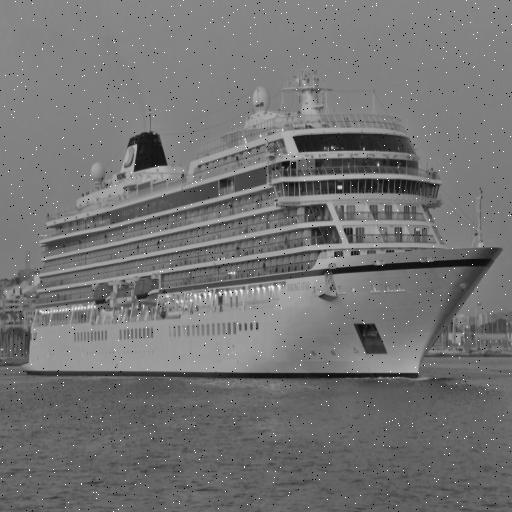cruises: (18, 59, 507, 387)
